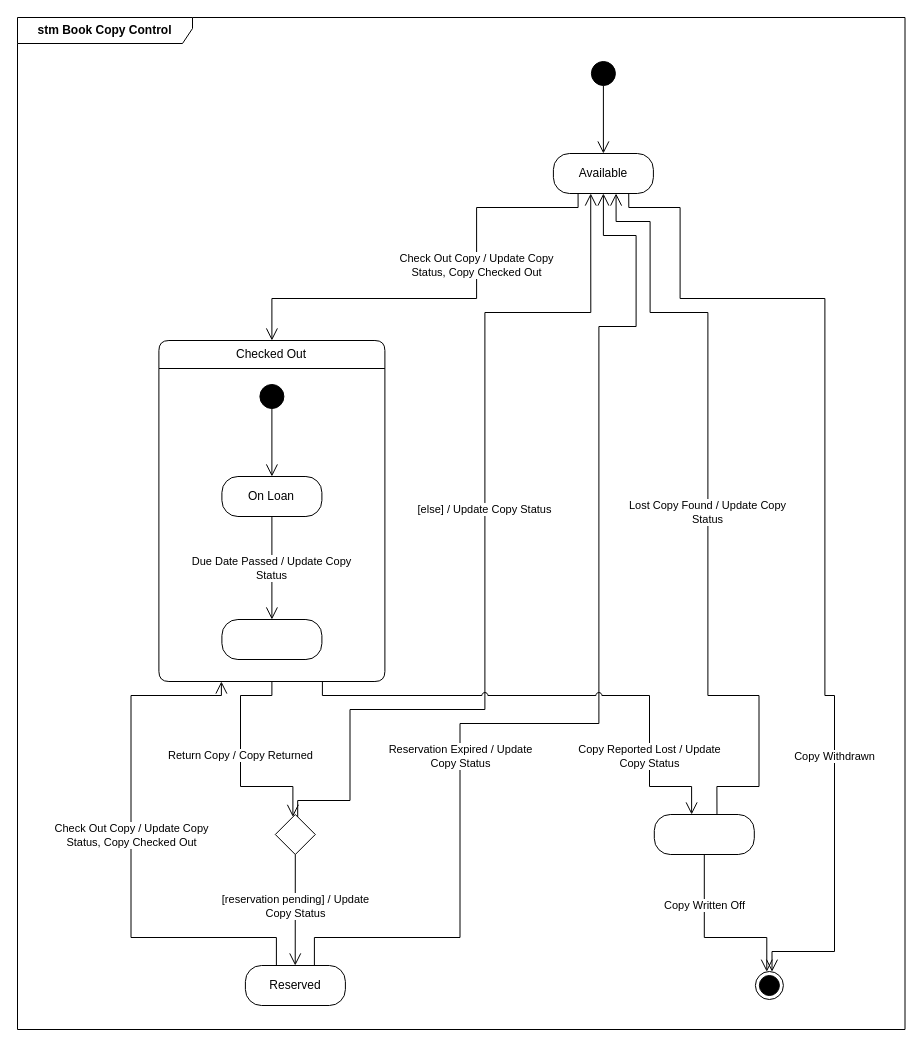
Some shapes in this 923 by 1047 pixel diagram are drawn without their labels. Here are the shapes that lost their labels. From the top down, the centre of each, then its label:
At [271,639]: "Overdue".
At [703,834]: "Lost".
